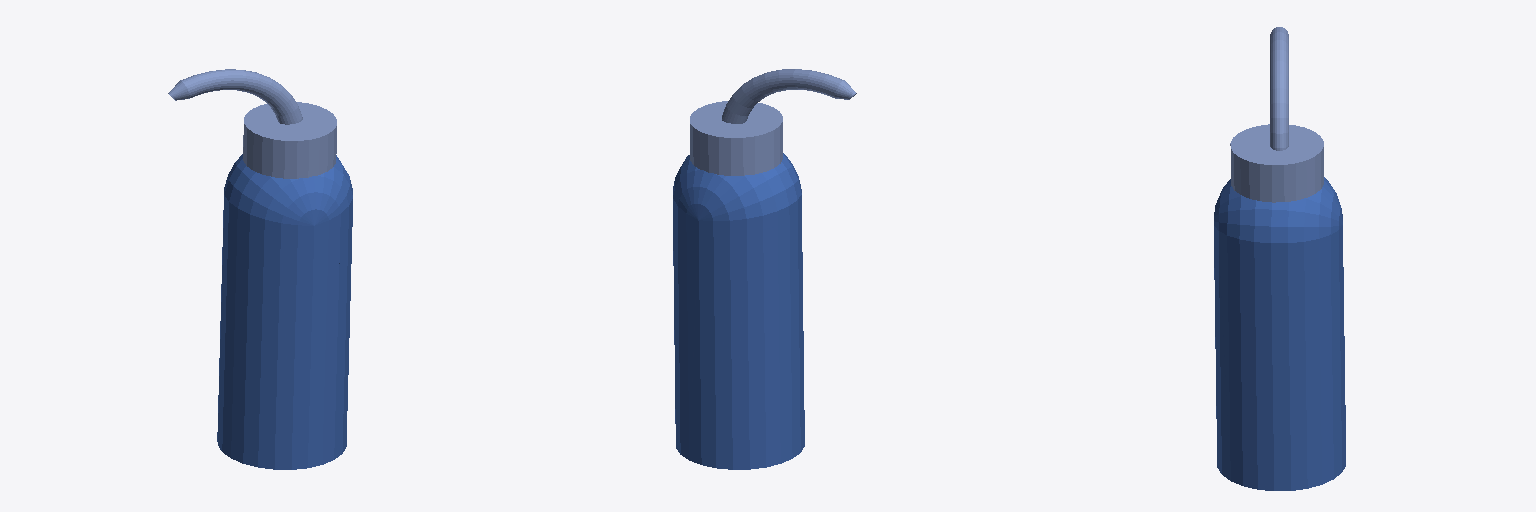
File: Fles.obj
3 views of the same model, side by side, from view 1: azimuth 30°, elevation 25°; view 2: azimuth 150°, elevation 25°; view 3: azimuth 270°, elevation 25° (orthographic).
Parts seen in each view (by area): view 1: fles_zijlster_bier_fles_zijlster_bier_ID5, fles_zijlster_bier_fles_zijlster_bier_ID13, SketchUp_ID32_SketchUp_ID32_ID13; view 2: fles_zijlster_bier_fles_zijlster_bier_ID5, fles_zijlster_bier_fles_zijlster_bier_ID13, SketchUp_ID32_SketchUp_ID32_ID13; view 3: fles_zijlster_bier_fles_zijlster_bier_ID5, fles_zijlster_bier_fles_zijlster_bier_ID13, SketchUp_ID32_SketchUp_ID32_ID13.
Boxes of the visible parts, x1=… form: fles_zijlster_bier_fles_zijlster_bier_ID5: x1=217, y1=154, x2=352, y2=469; fles_zijlster_bier_fles_zijlster_bier_ID13: x1=243, y1=102, x2=336, y2=178; SketchUp_ID32_SketchUp_ID32_ID13: x1=168, y1=69, x2=302, y2=124; fles_zijlster_bier_fles_zijlster_bier_ID5: x1=673, y1=153, x2=804, y2=469; fles_zijlster_bier_fles_zijlster_bier_ID13: x1=690, y1=101, x2=782, y2=175; SketchUp_ID32_SketchUp_ID32_ID13: x1=722, y1=69, x2=856, y2=123; fles_zijlster_bier_fles_zijlster_bier_ID5: x1=1214, y1=177, x2=1345, y2=490; fles_zijlster_bier_fles_zijlster_bier_ID13: x1=1230, y1=124, x2=1323, y2=202; SketchUp_ID32_SketchUp_ID32_ID13: x1=1270, y1=27, x2=1288, y2=150.
Size of the model in its own units: 0.0739 by 0.1572 by 0.0484.